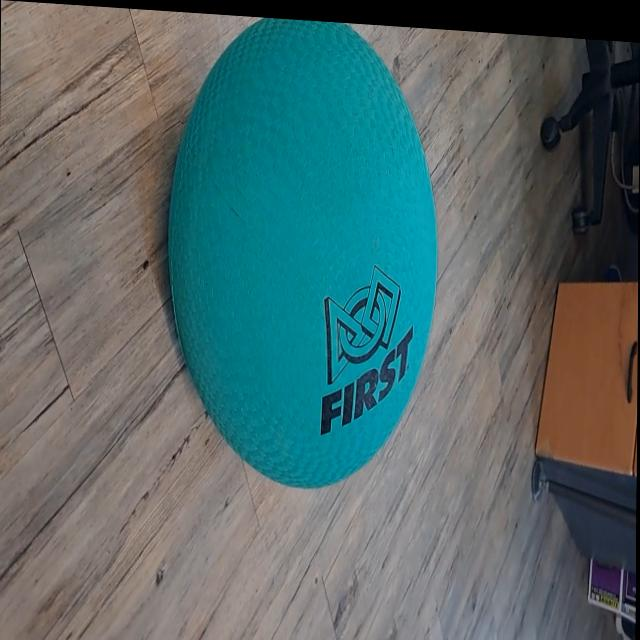ALGAE: (165, 12, 440, 498)
